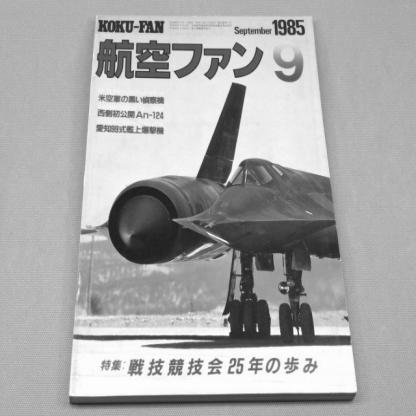SR71: (82, 83, 341, 344)
